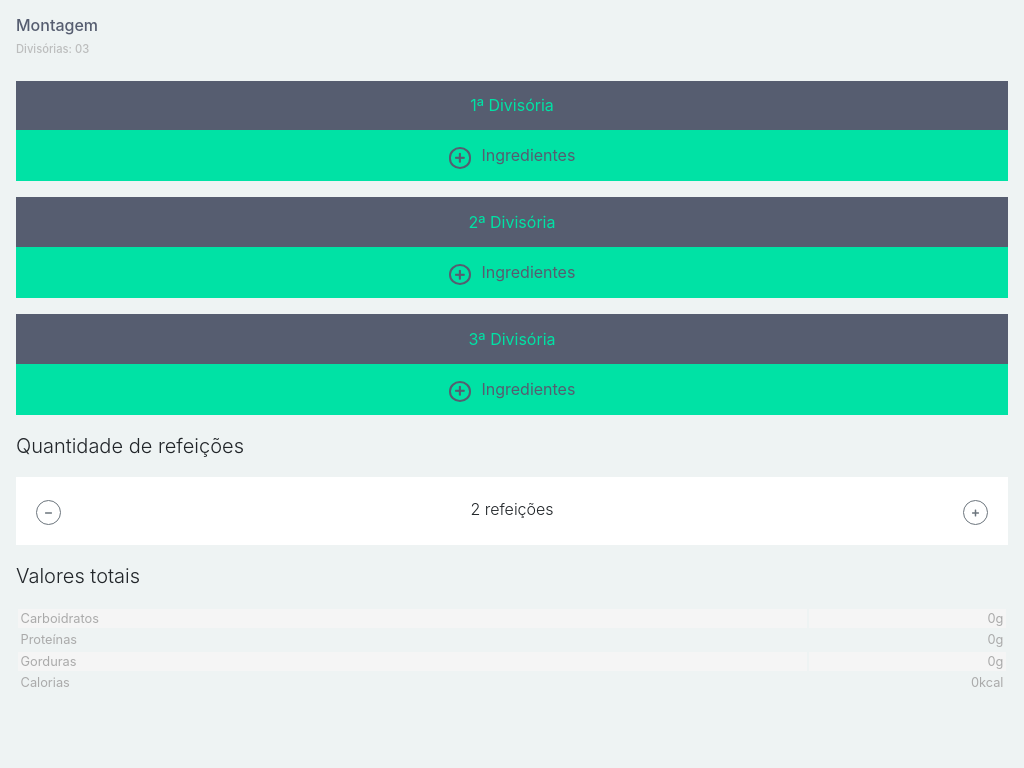
Scenario: Quantidade de refeições › Botão adicionar deve diminuir a quantidade de refeições
Expected: the text with test id "mealText" reads "2 refeições", [470,499,554,519]
Click the button with test id "minusMeal".
click(48, 513)  # box [36,500,61,525]
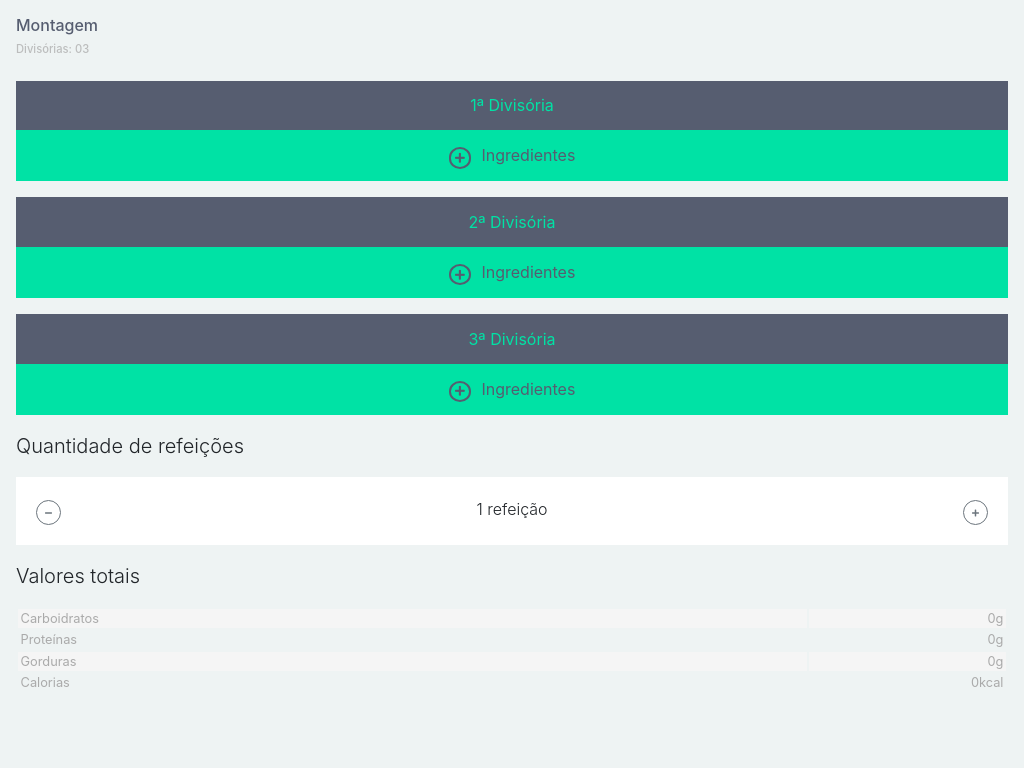
Now the text with test id "mealText" reads "1 refeição", box [476,499,548,519]
